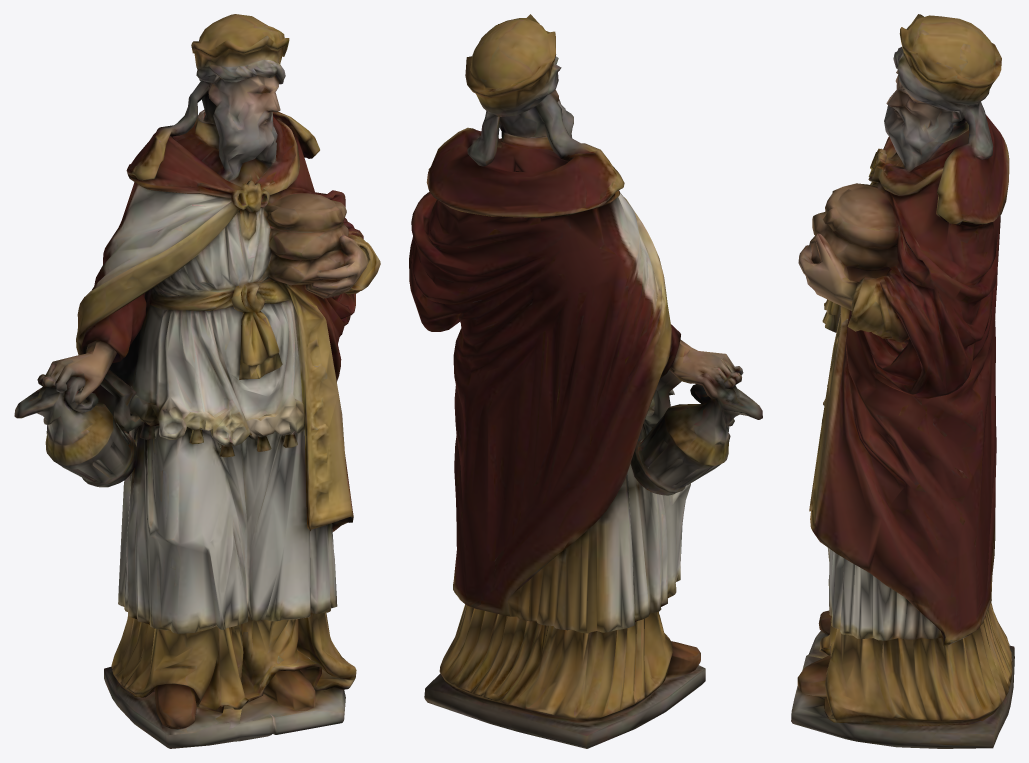
Rendered from melchizedek.lean.glb.
3 renders of one model, left to right at view 1: azimuth 30°, elevation 25°; view 2: azimuth 150°, elevation 25°; view 3: azimuth 270°, elevation 25°, orthographic. The views are drawn at different scales.
Visible parts, largest first — view 1: node_0; view 2: node_0; view 3: node_0.
Boxes of the visible parts, x1,y1,x2,y2 form: node_0: (14, 14, 380, 748); node_0: (409, 14, 762, 748); node_0: (791, 14, 1014, 748).
Bounding box in the file's own units: 0.5925 × 1.09 × 0.3191.
Materials: 1 (1 with a texture image).
